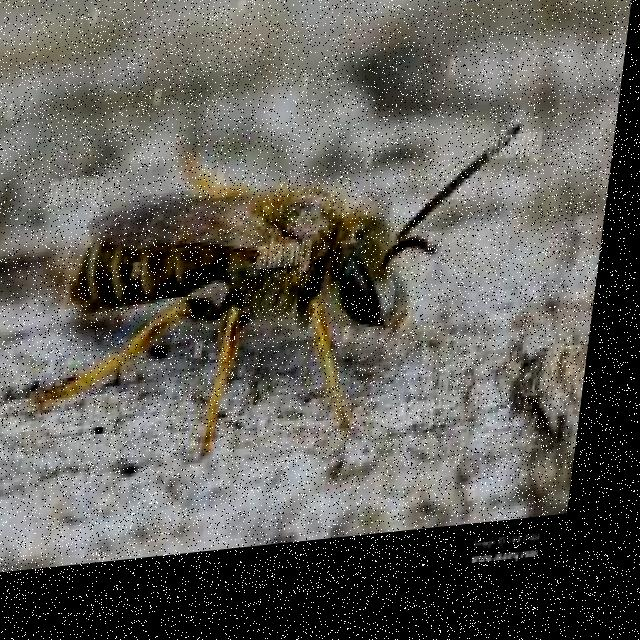Seladonia: (48, 90, 463, 452)
